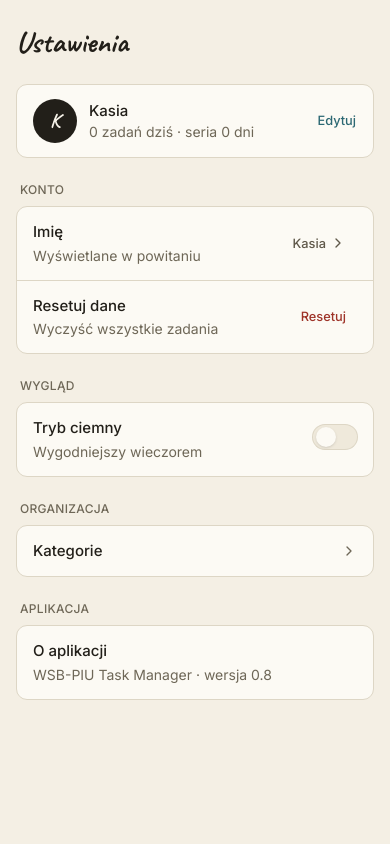
Test case: SettingsPage / Ja (P-H) › zmiana imienia zapisuje się w stanie
Note: Otwórz edycję imienia (przycisk pokazuje bieżące imię).
Step 1. Click the button "Kasia" → {"x": 319, "y": 243}, box x1=282 y1=229 x2=357 y2=257
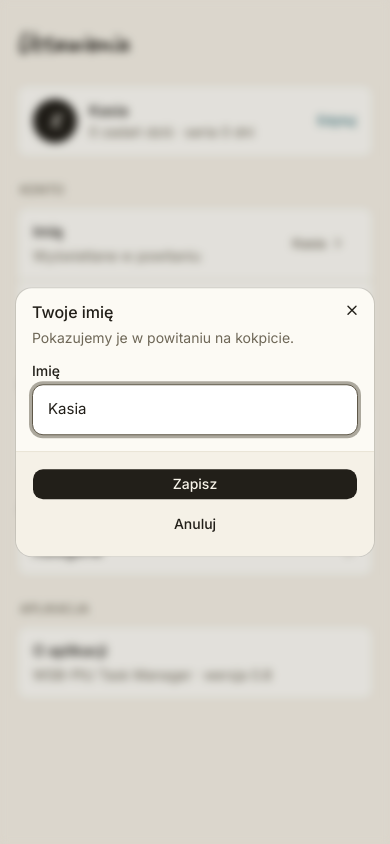
Step 2. Replace the text in the field labelled "Imię" with "Tomek" → {"x": 195, "y": 410}, box x1=32 y1=384 x2=358 y2=435
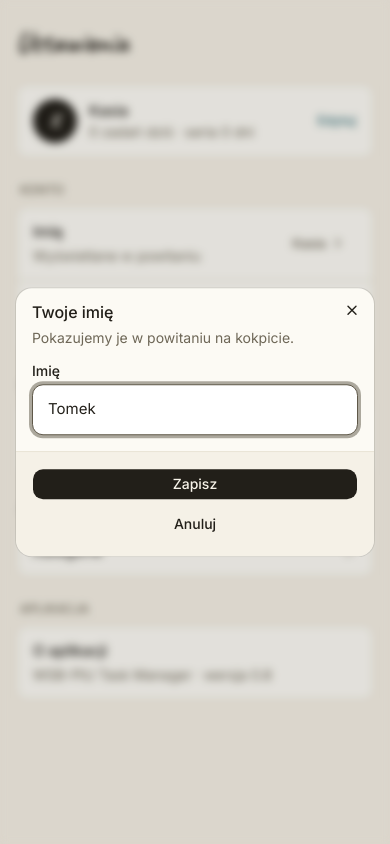
Step 3. Click the button "Zapisz" → {"x": 195, "y": 484}, box x1=32 y1=468 x2=358 y2=500
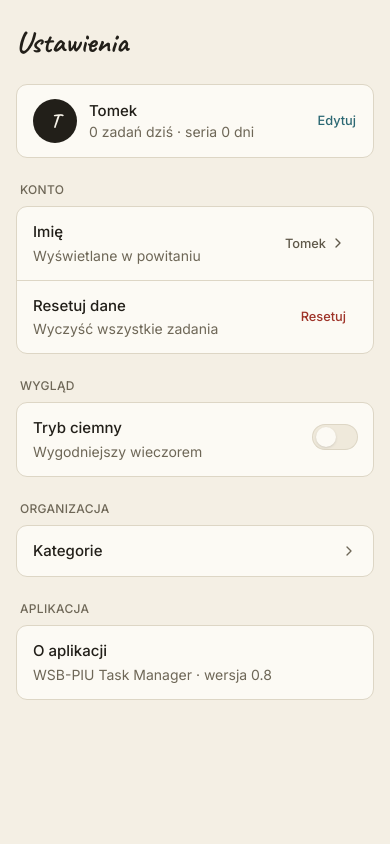
Result: the text "Tomek" is shown at x1=89 y1=101 x2=137 y2=120
